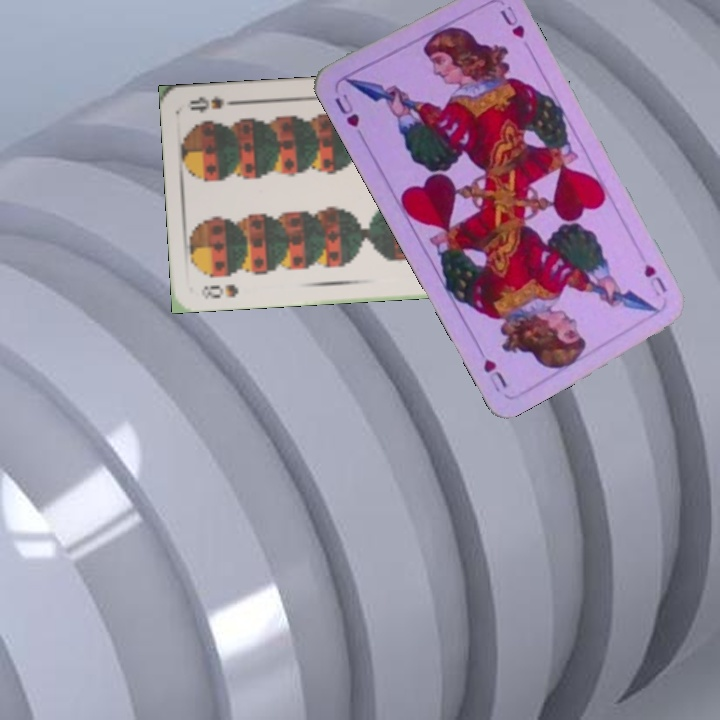HU: (330, 89, 363, 130), (639, 260, 670, 299)
S8: (197, 279, 241, 302)
